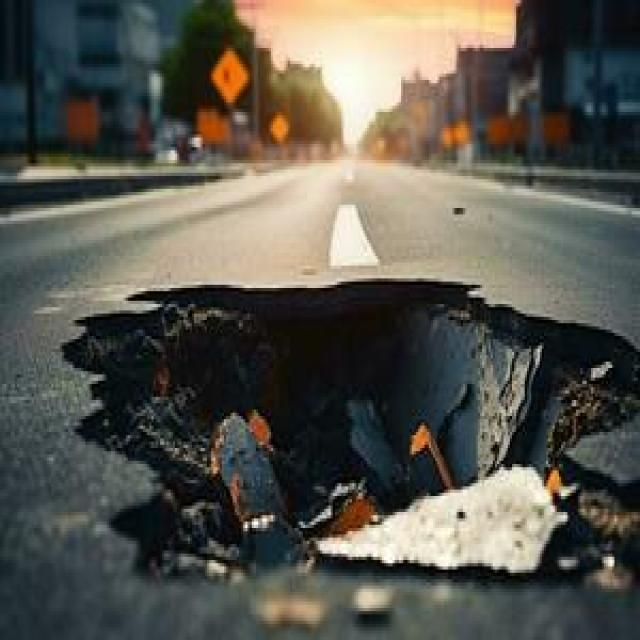road collapse: (59, 128, 640, 640)
